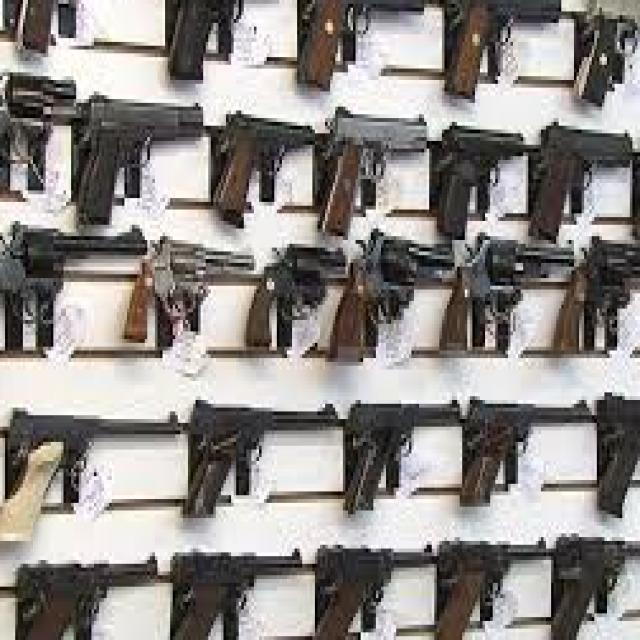gun: (0, 381, 181, 556), (444, 374, 593, 527), (180, 392, 336, 536), (407, 237, 579, 361), (0, 221, 150, 358), (299, 240, 450, 372), (343, 384, 468, 534), (112, 242, 260, 359), (69, 100, 208, 223), (412, 0, 586, 95), (0, 545, 165, 640), (312, 104, 428, 239), (198, 104, 318, 234), (417, 529, 557, 640), (289, 537, 437, 640), (127, 0, 292, 91), (529, 506, 640, 640), (269, 0, 429, 91), (229, 241, 351, 360), (155, 545, 305, 640), (514, 119, 632, 238), (541, 228, 640, 362), (427, 116, 529, 232), (0, 61, 79, 168), (592, 369, 640, 529), (5, 0, 122, 65), (561, 0, 640, 95), (625, 133, 640, 248)
